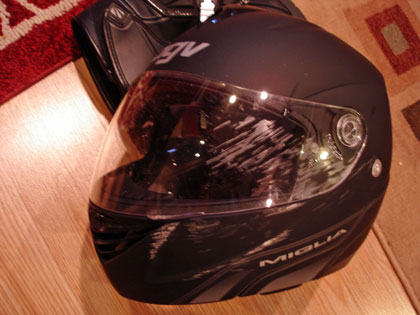helmet: (104, 17, 395, 279)
